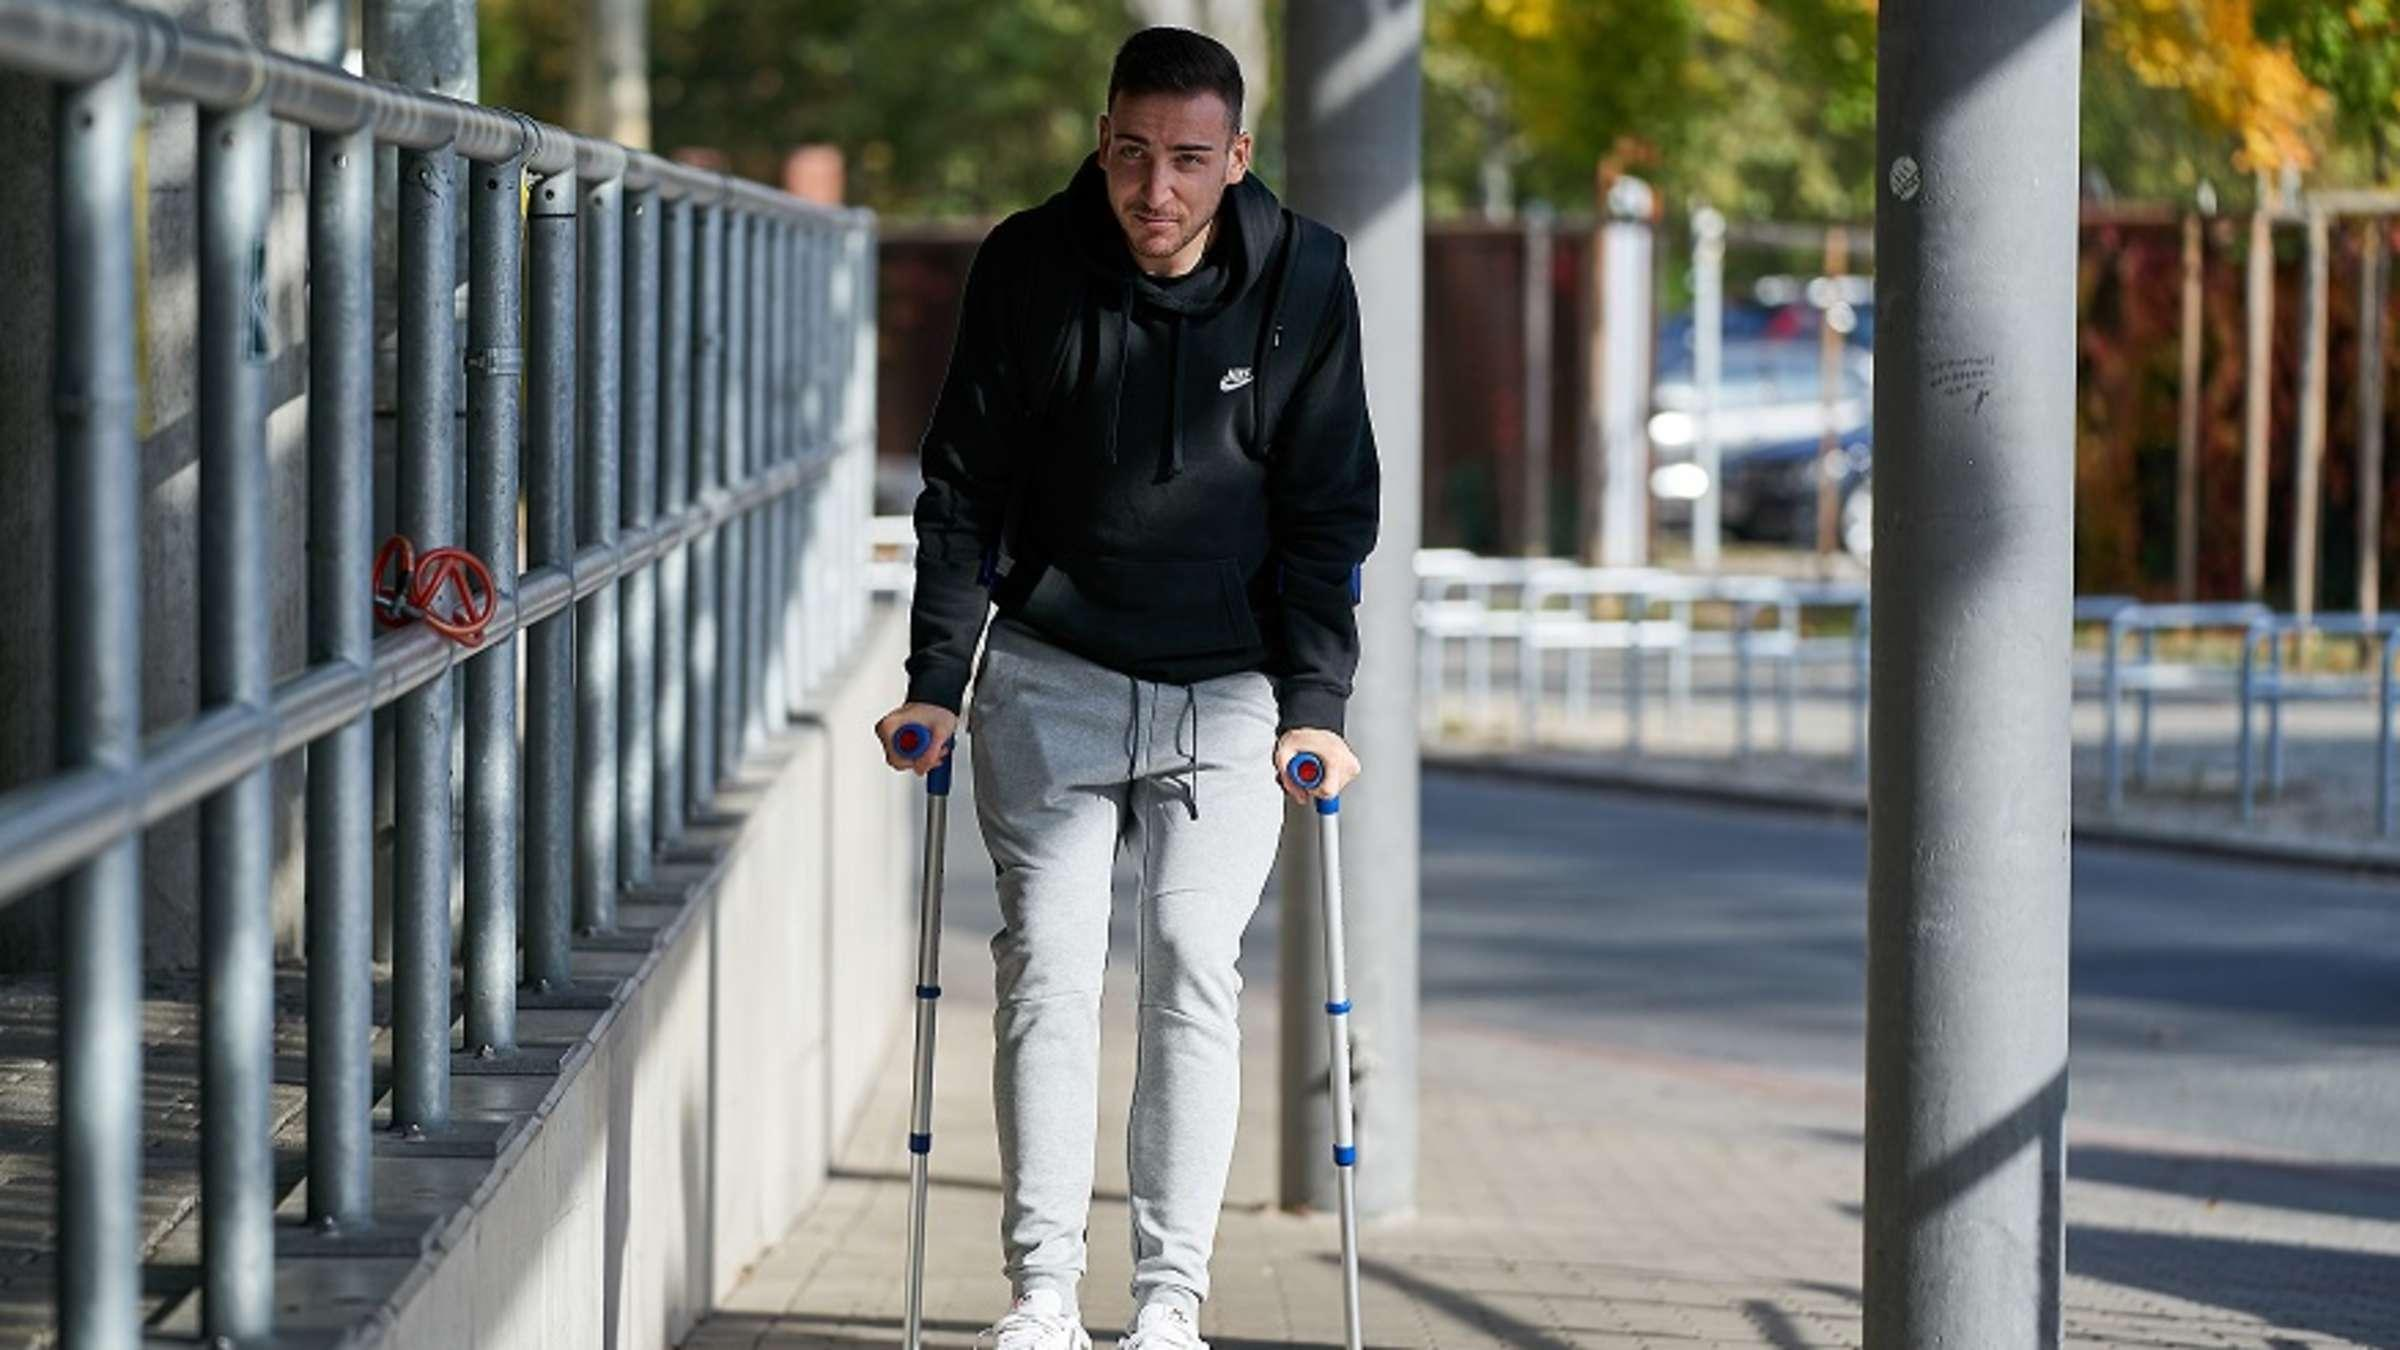crutches: (869, 8, 1396, 1350)
